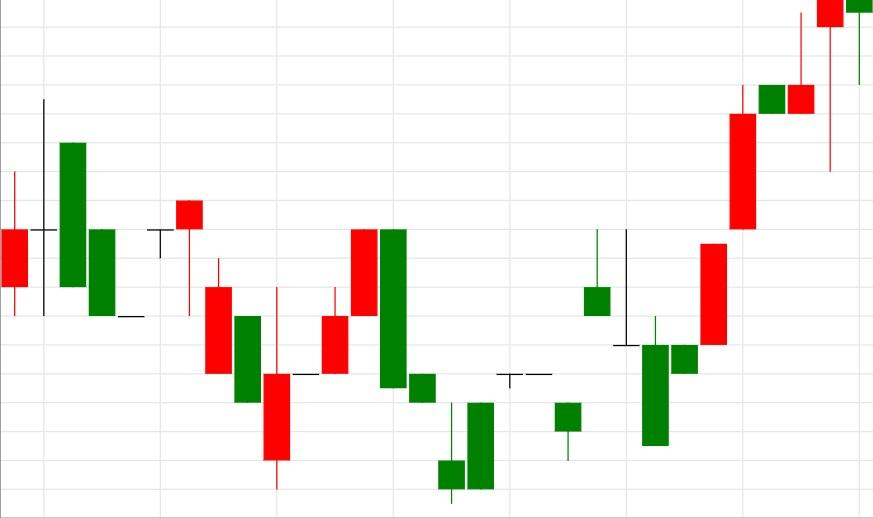bearish_engulfing_fall: (262, 229, 408, 490)
hanging_man_fall: (641, 0, 845, 447), (88, 199, 203, 319)
